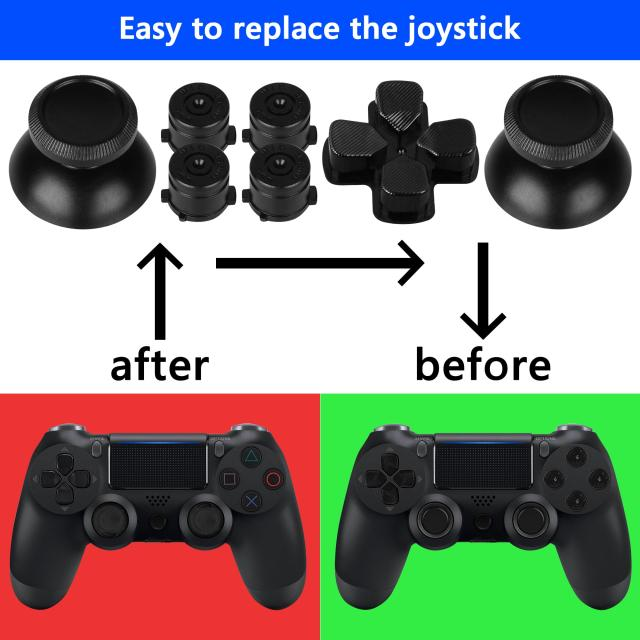ps4_controller: (344, 401, 640, 630), (33, 395, 300, 602)
